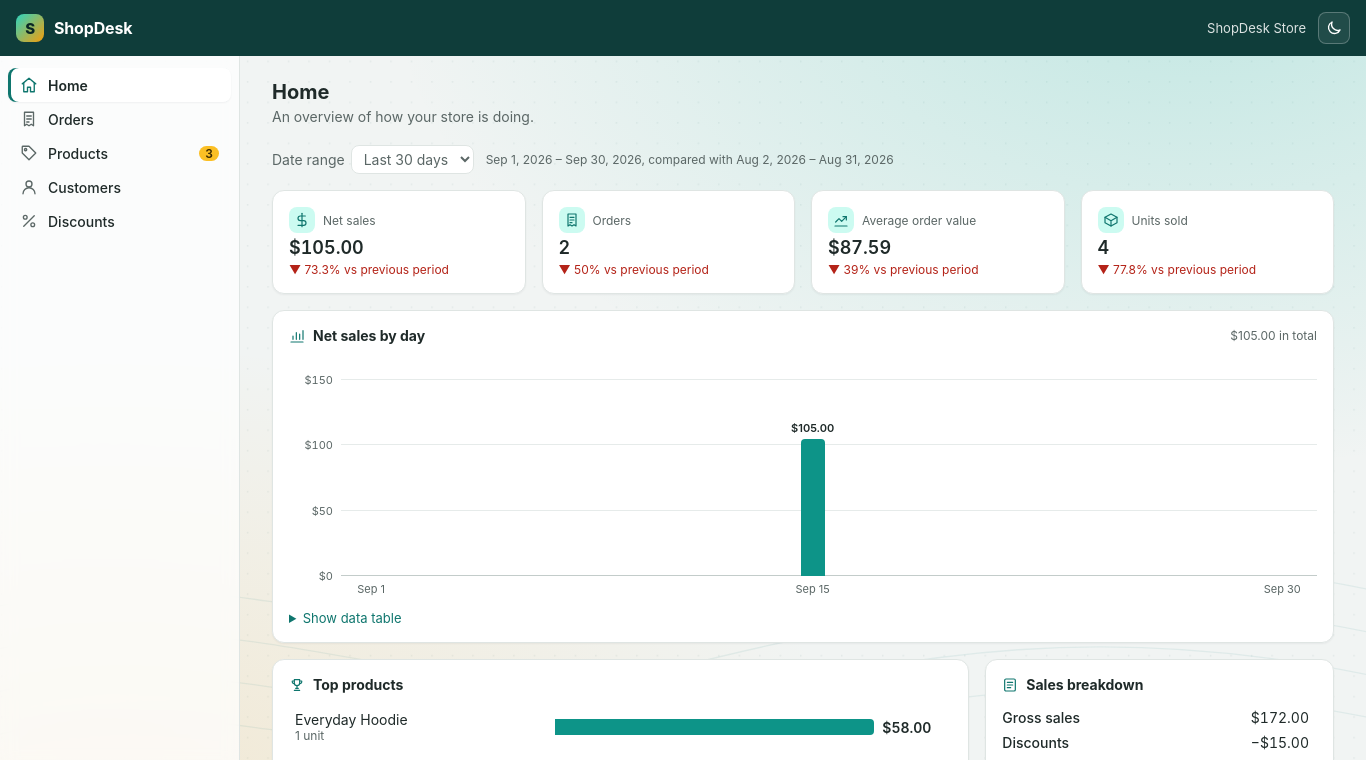
DashboardPage › links top products to their pages
Click the link "Everyday Hoodie". click: (351, 720)
box: [295,711,408,728]
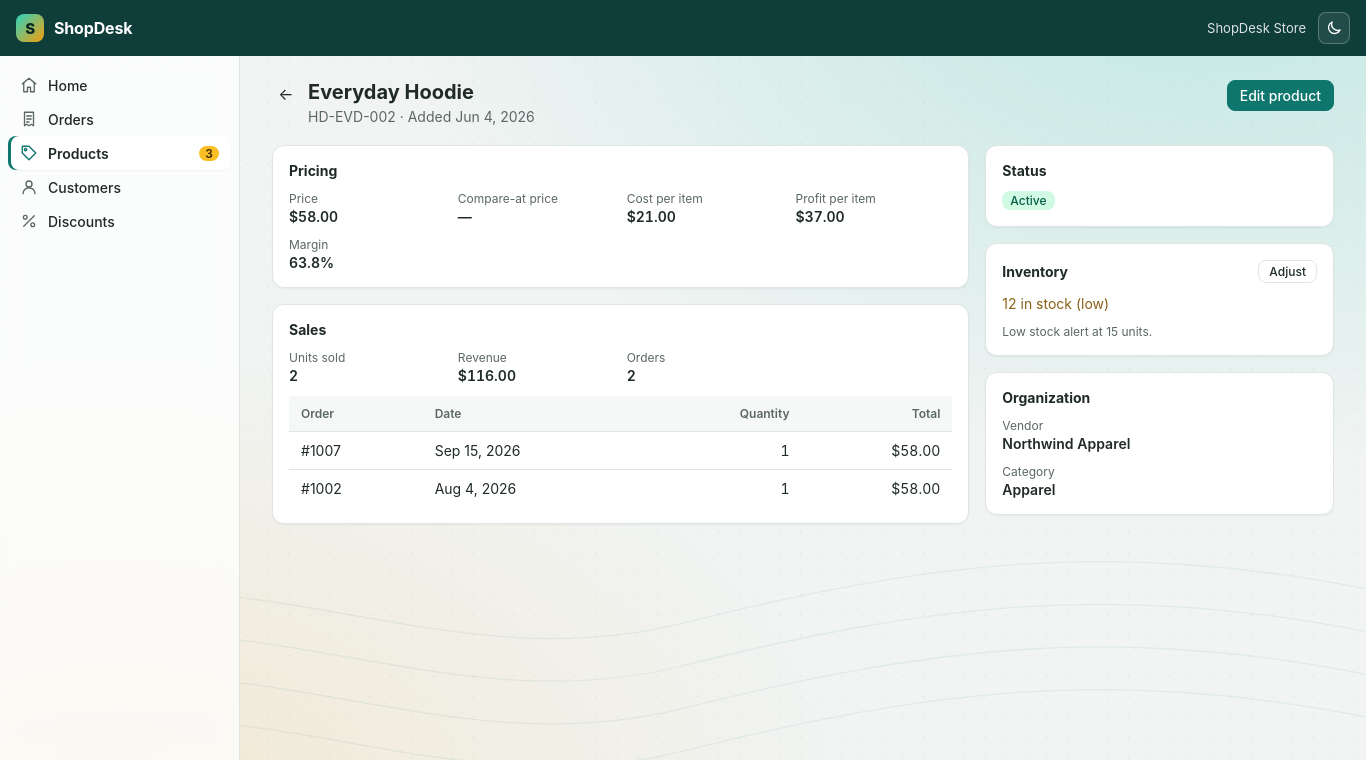
Expected: the heading "Everyday Hoodie" is shown, [308,80,474,104]
